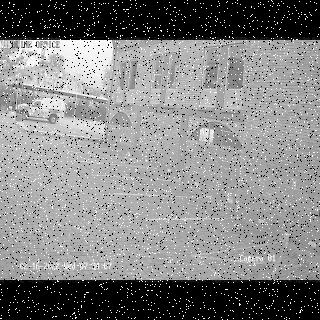car: (16, 97, 66, 123)
